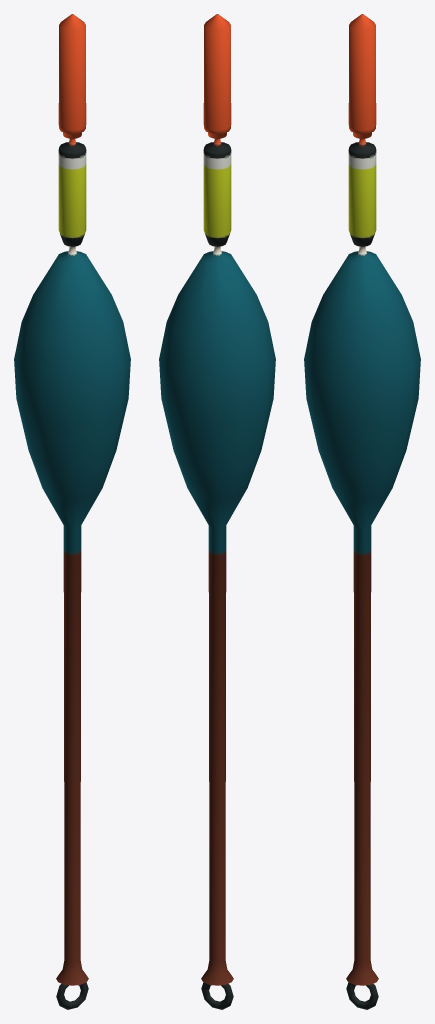
3 views of the same model, side by side, from view 1: azimuth 30°, elevation 25°; view 2: azimuth 150°, elevation 25°; view 3: azimuth 330°, elevation 25° (orthographic).
Visible parts, largest first — view 1: F48_Float; view 2: F48_Float; view 3: F48_Float.
Boxes of the visible parts, x1,y1,x2,y2 form: F48_Float: (14,14,130,1009); F48_Float: (159,14,275,1009); F48_Float: (304,14,420,1009).
Size of the model in its own units: 0.0213 by 0.2 by 0.0213.
1 material, 1 textured.
